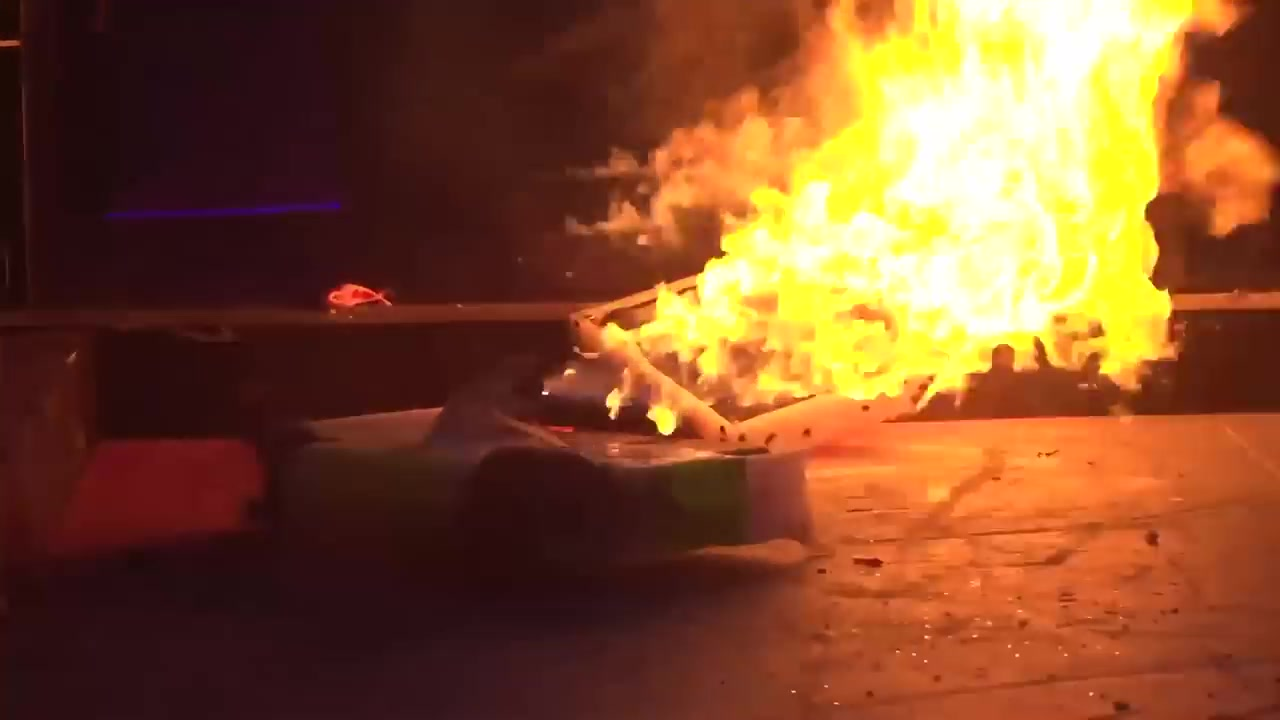combatbot: (235, 368, 820, 562), (568, 278, 936, 450), (1157, 0, 1280, 295)
